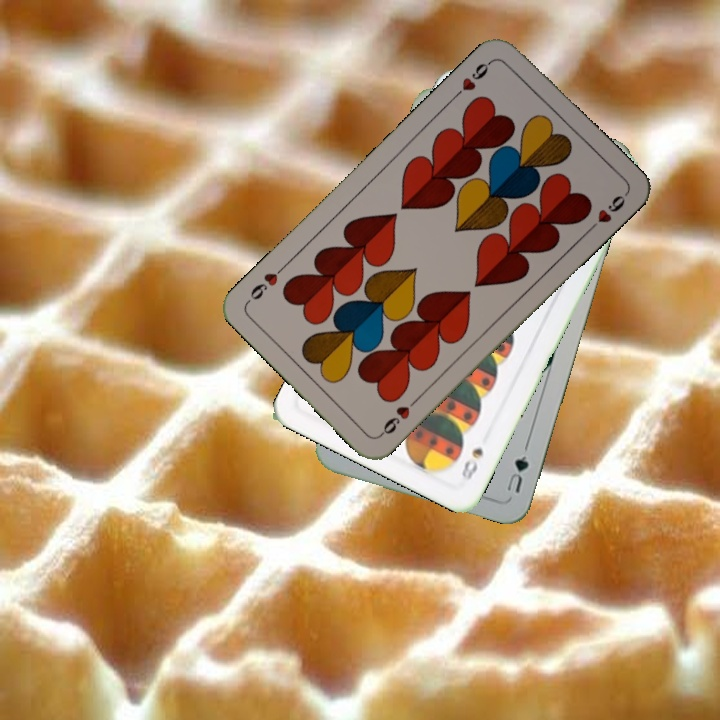GU: (502, 441, 532, 496)
H9: (375, 393, 422, 439), (449, 55, 496, 101)
S8: (457, 443, 486, 484)
